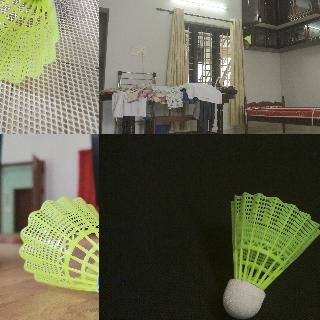shuttlecock: (223, 192, 319, 319), (18, 196, 98, 311), (0, 0, 61, 85), (243, 35, 250, 43)
